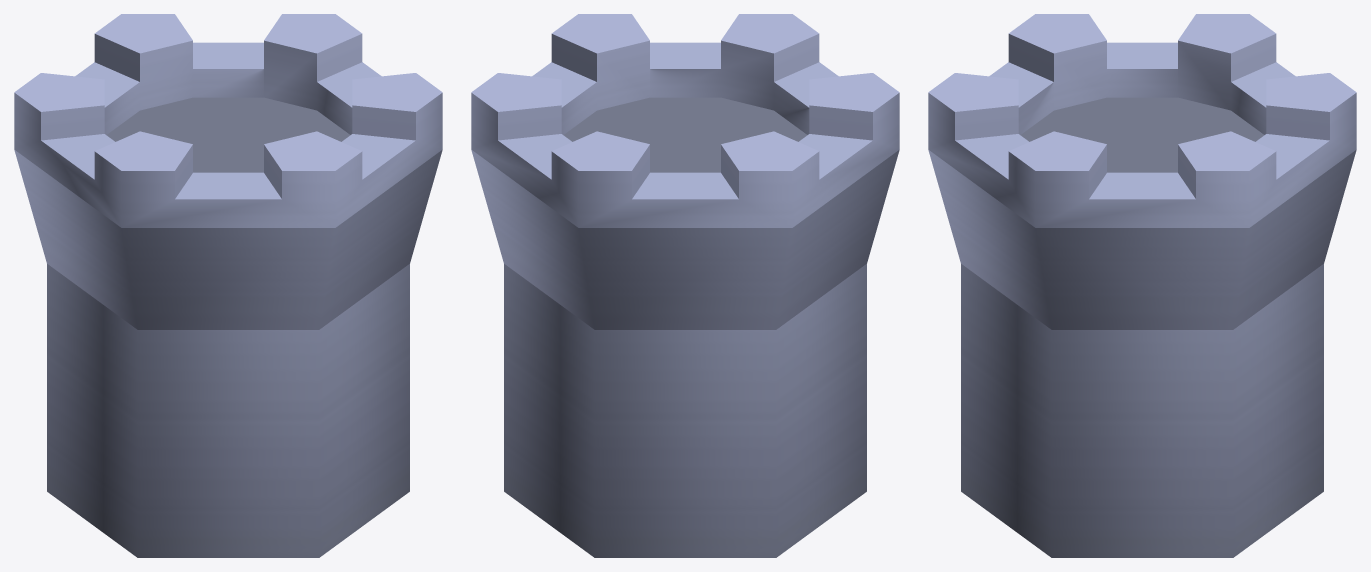
The model's file is castle_tower.fbx.
3 renders of one model, left to right at view 1: azimuth 30°, elevation 25°; view 2: azimuth 150°, elevation 25°; view 3: azimuth 270°, elevation 25°, orthographic.
Parts seen in each view (by area): view 1: unit_wall_tower; view 2: unit_wall_tower; view 3: unit_wall_tower.
Part boxes in pixels (<box>): unit_wall_tower: <box>14,14,442,557</box>; unit_wall_tower: <box>471,14,899,557</box>; unit_wall_tower: <box>928,14,1356,557</box>.
Size of the model in its own units: 29.5 by 35 by 34.06.
